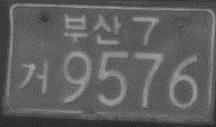5: (95, 49, 129, 108)
6: (166, 50, 198, 109)
7: (130, 50, 165, 108), (129, 14, 160, 47)
9: (59, 50, 92, 105)
거: (16, 59, 51, 95)
부산_O: (62, 12, 122, 47)
